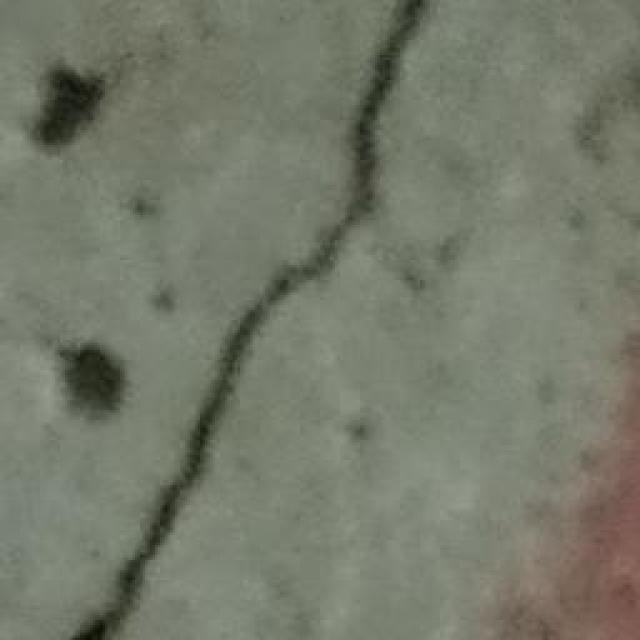Diagonal: (77, 0, 431, 640)
